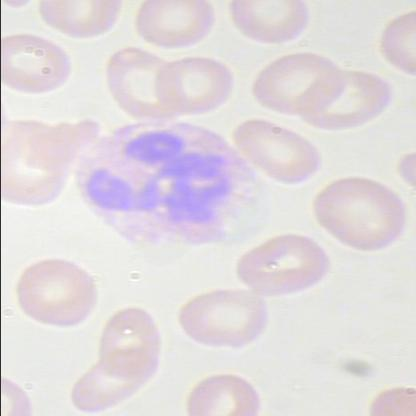RBC: (308, 172, 408, 256), (170, 276, 274, 356), (250, 48, 349, 120), (230, 114, 328, 186), (300, 66, 398, 138), (234, 232, 337, 298), (12, 255, 100, 332), (94, 298, 168, 376), (152, 57, 238, 121), (130, 0, 219, 57), (225, 0, 314, 57), (1, 29, 78, 94), (182, 368, 272, 416)
WBC: (74, 110, 272, 260)
